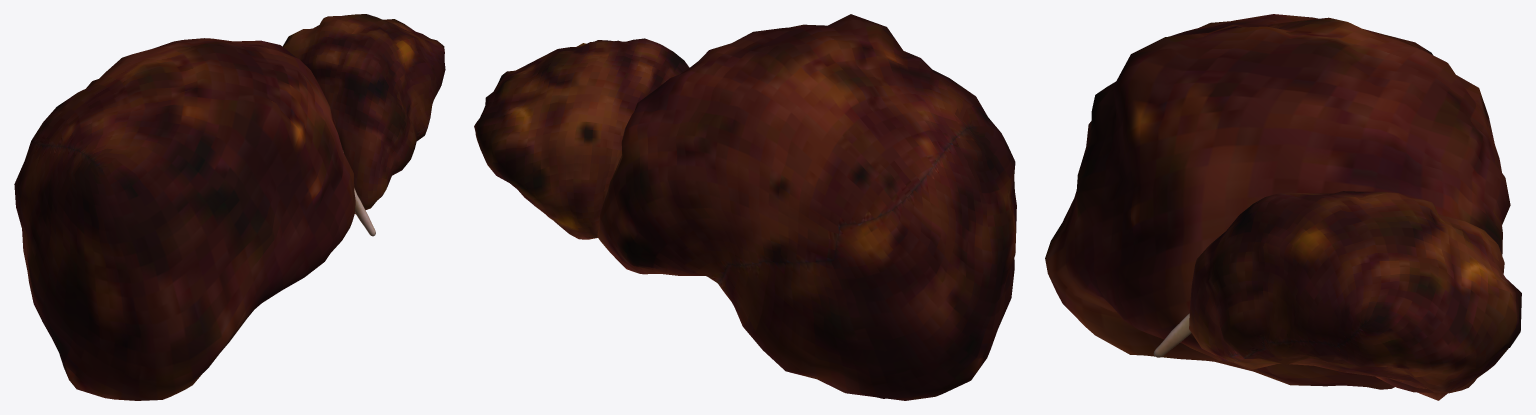
The model's file is hcc.glb.
3 views of the same model, side by side, from view 1: azimuth 30°, elevation 25°; view 2: azimuth 150°, elevation 25°; view 3: azimuth 270°, elevation 25° (orthographic). The views are drawn at different scales.
Parts seen in each view (by area): view 1: LiverRight, LiverLeft, LiverCenter; view 2: LiverRight, LiverLeft; view 3: LiverRight, LiverLeft, LiverCenter.
Boxes of the visible parts, x1=… form: LiverRight: x1=14, y1=38, x2=355, y2=400; LiverLeft: x1=282, y1=14, x2=445, y2=214; LiverCenter: x1=343, y1=152, x2=375, y2=236; LiverRight: x1=597, y1=14, x2=1016, y2=400; LiverLeft: x1=474, y1=38, x2=689, y2=239; LiverRight: x1=1045, y1=14, x2=1510, y2=400; LiverLeft: x1=1189, y1=191, x2=1521, y2=393; LiverCenter: x1=1153, y1=313, x2=1191, y2=357.
Bounding box in the file's own units: 0.5325 × 0.3625 × 0.3694.
3 materials, 3 textured.
